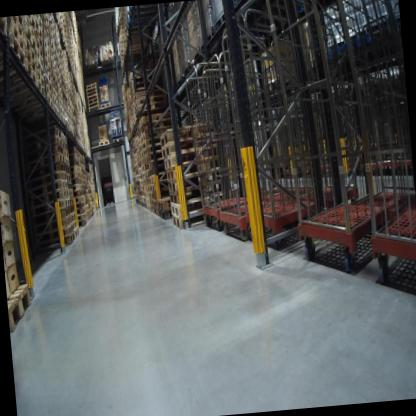pallet: (170, 198, 232, 233), (168, 189, 239, 216), (167, 180, 234, 205), (7, 281, 37, 336), (160, 121, 214, 150), (161, 147, 214, 176), (0, 74, 48, 106), (165, 157, 216, 185), (0, 33, 29, 80), (0, 58, 39, 92), (167, 167, 216, 194), (25, 190, 72, 212), (161, 136, 209, 156), (34, 231, 76, 252), (30, 217, 74, 237), (28, 198, 72, 218), (22, 153, 66, 172), (26, 180, 69, 199), (33, 226, 75, 245), (29, 208, 72, 225), (20, 125, 63, 142), (23, 163, 67, 179), (19, 145, 65, 160), (26, 103, 61, 122), (134, 101, 170, 119), (9, 22, 28, 56), (18, 135, 63, 149), (23, 171, 67, 185), (133, 94, 169, 111), (140, 119, 174, 135), (137, 112, 173, 127), (140, 126, 165, 144), (20, 47, 37, 73), (132, 88, 164, 101), (22, 34, 37, 61), (23, 22, 38, 49), (142, 134, 165, 150), (11, 16, 25, 40), (43, 34, 57, 57), (143, 142, 167, 155), (142, 150, 166, 163), (145, 159, 164, 172), (33, 56, 44, 78), (31, 14, 43, 33), (152, 188, 171, 200), (0, 18, 9, 40), (157, 197, 171, 211), (34, 48, 44, 67), (35, 68, 45, 87), (159, 206, 173, 219), (43, 54, 53, 72), (33, 36, 43, 54), (35, 28, 43, 50), (146, 166, 165, 175), (151, 173, 166, 184), (44, 47, 53, 65), (43, 30, 52, 48), (72, 225, 82, 241), (45, 66, 53, 86), (28, 17, 39, 31), (151, 183, 168, 192), (44, 18, 52, 36), (98, 137, 112, 147), (47, 85, 55, 102), (87, 101, 101, 110), (46, 76, 53, 94), (74, 195, 85, 206), (66, 204, 76, 216), (69, 165, 81, 175), (47, 95, 55, 110), (100, 101, 113, 110), (112, 136, 126, 144), (50, 48, 57, 64), (77, 213, 88, 223), (76, 220, 88, 229), (53, 59, 59, 77), (53, 87, 60, 102), (61, 105, 68, 120), (87, 98, 100, 106), (52, 79, 59, 93), (65, 161, 71, 177), (71, 178, 83, 186), (85, 82, 97, 90), (68, 211, 77, 221), (70, 219, 78, 230), (74, 201, 85, 209), (87, 93, 98, 101), (72, 190, 84, 197), (71, 184, 83, 191), (89, 105, 101, 112), (86, 91, 98, 98), (59, 114, 66, 126), (59, 97, 65, 111), (140, 163, 148, 173), (61, 131, 67, 144), (64, 148, 70, 161), (70, 172, 81, 179), (86, 87, 97, 94), (68, 187, 74, 199), (65, 173, 72, 183), (77, 208, 87, 215), (58, 82, 63, 96), (139, 158, 146, 168), (53, 73, 59, 84), (154, 208, 160, 219), (66, 182, 73, 191), (68, 196, 75, 205), (138, 150, 145, 159), (65, 157, 71, 167), (54, 97, 59, 109), (153, 199, 159, 209), (136, 122, 142, 132), (138, 135, 144, 145), (141, 172, 148, 179), (63, 142, 68, 151), (46, 14, 51, 23), (138, 131, 143, 140), (59, 92, 63, 103), (143, 179, 149, 186), (147, 175, 152, 183), (151, 206, 155, 216), (145, 197, 150, 205), (149, 191, 153, 200), (147, 206, 153, 212), (145, 192, 150, 199), (148, 183, 152, 191), (150, 199, 154, 207), (144, 185, 148, 193), (139, 145, 143, 152), (27, 209, 28, 210)
